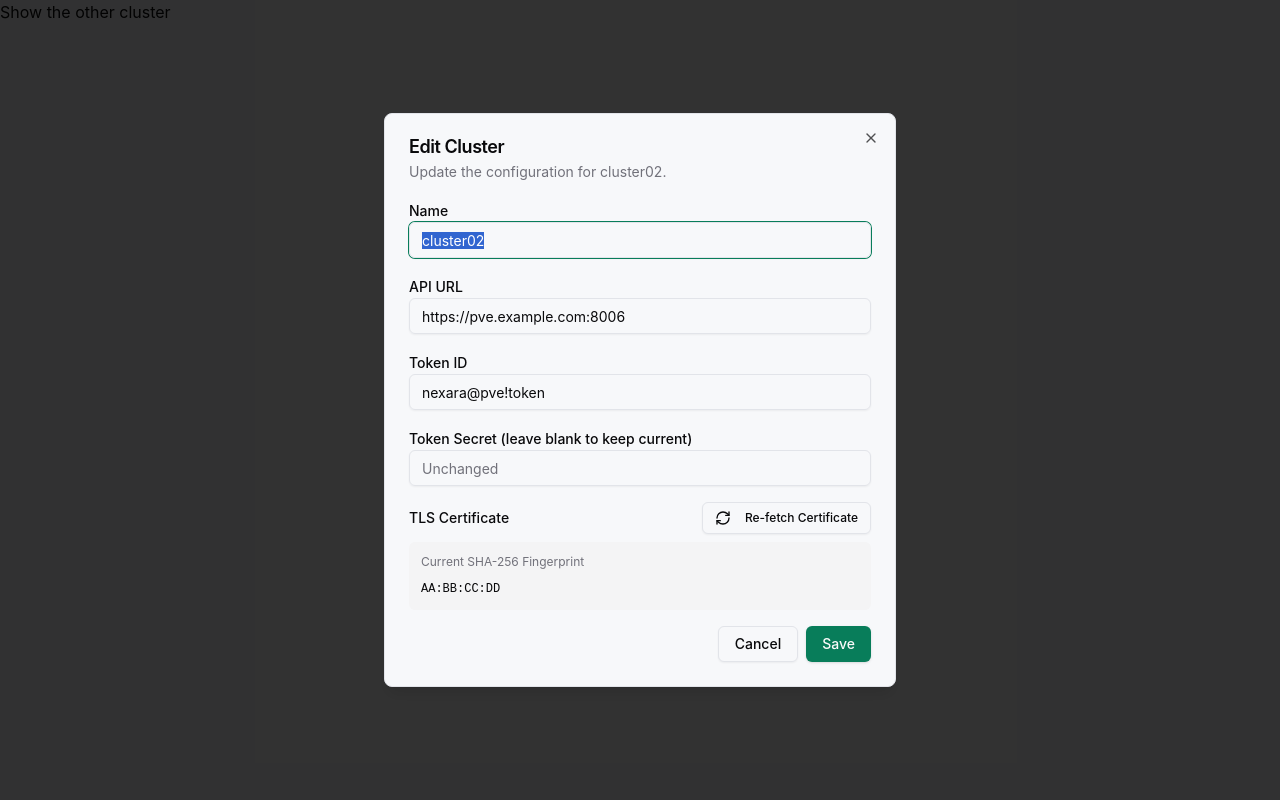
Scenario: a cluster save that settles when the dialog was given another cluster › answers a refusal that asks for a prompt with the prompt, or with a toast naming the first cluster and no prompt
Type " renamed" into the field labelled "Name". click: coordinates (640, 240)
box: [409,222,871,258]
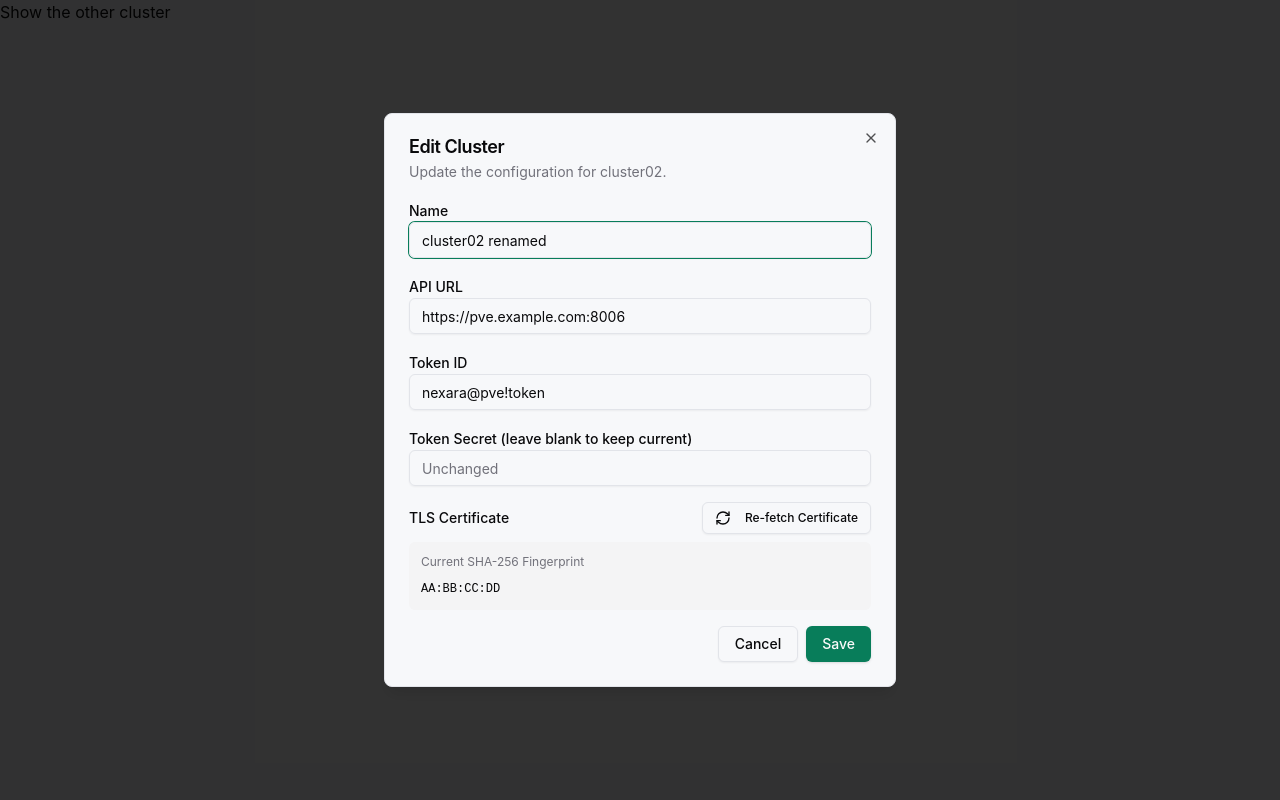
Click the button "Save". click: coordinates (839, 644)
box: [806,626,871,662]
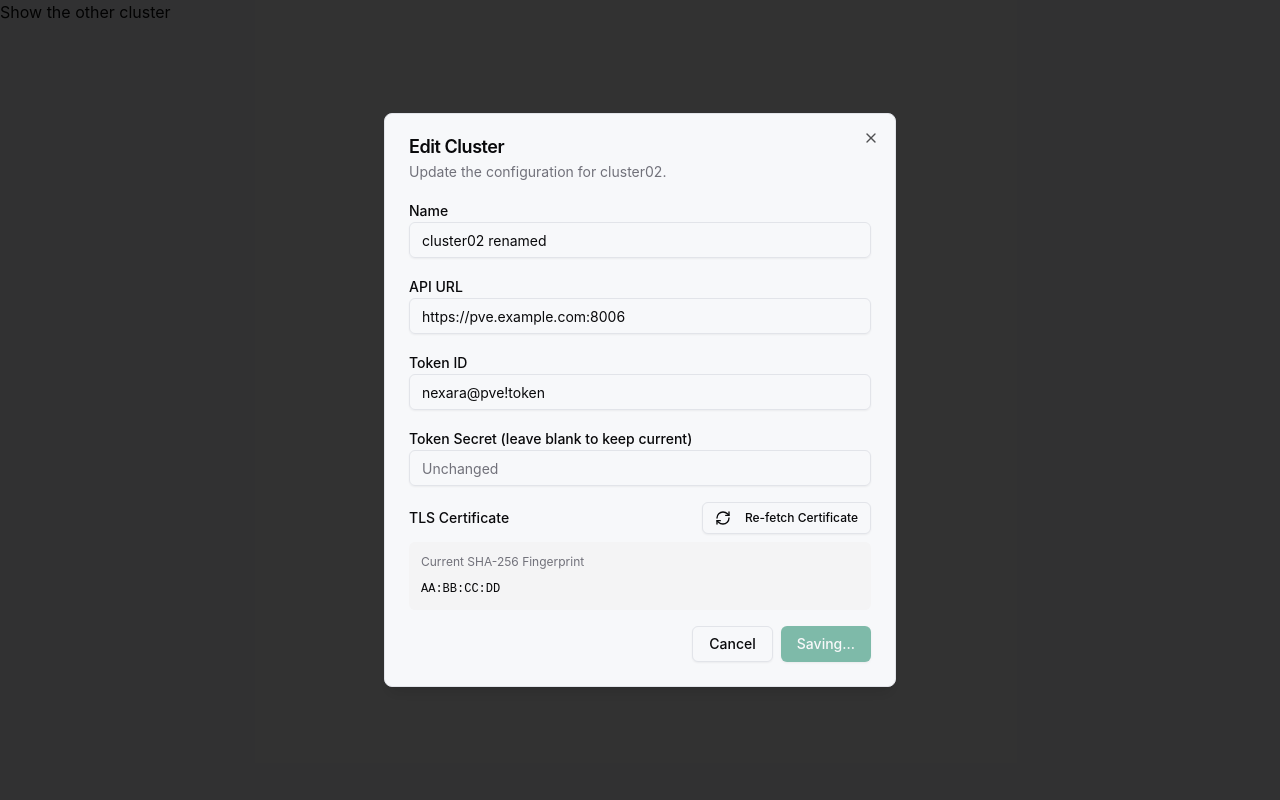
Result: the button "Saving..." is disabled at [781,626,871,662]
Press Tab
Press Tab
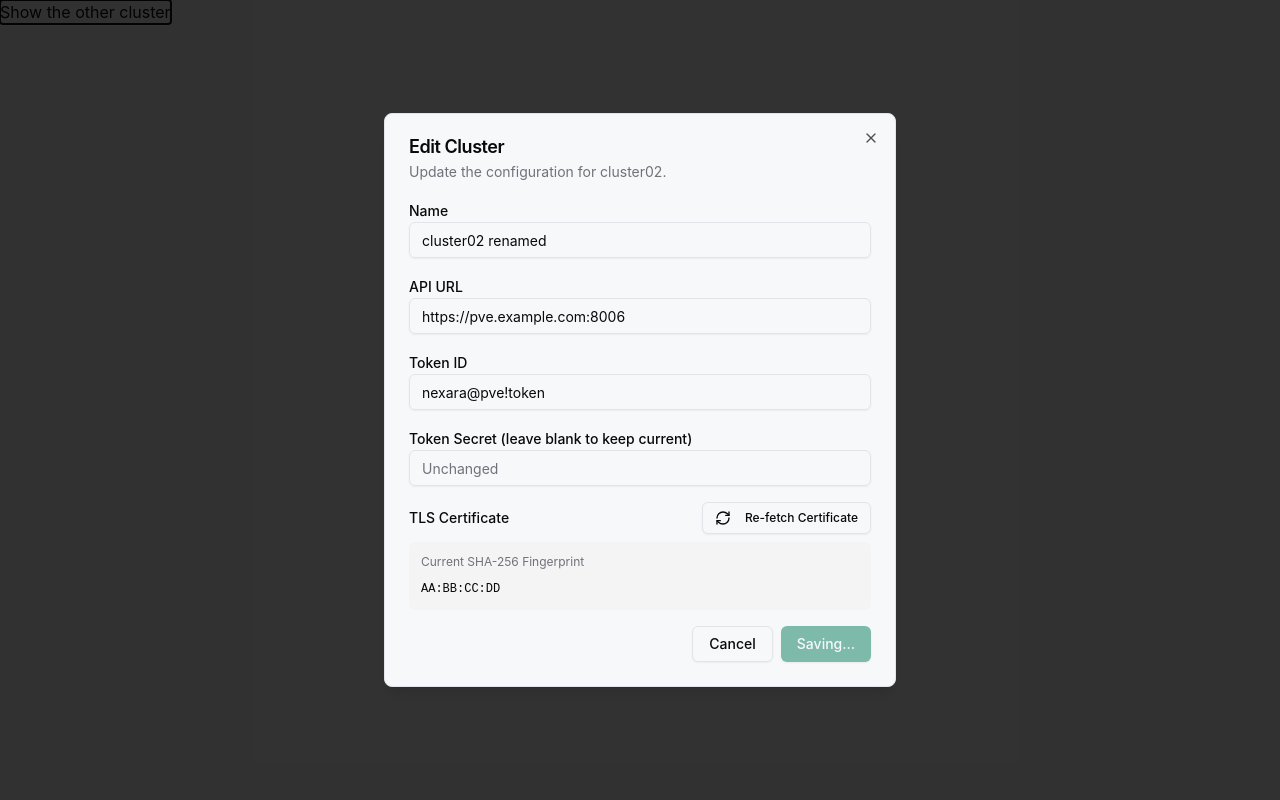
Press Enter
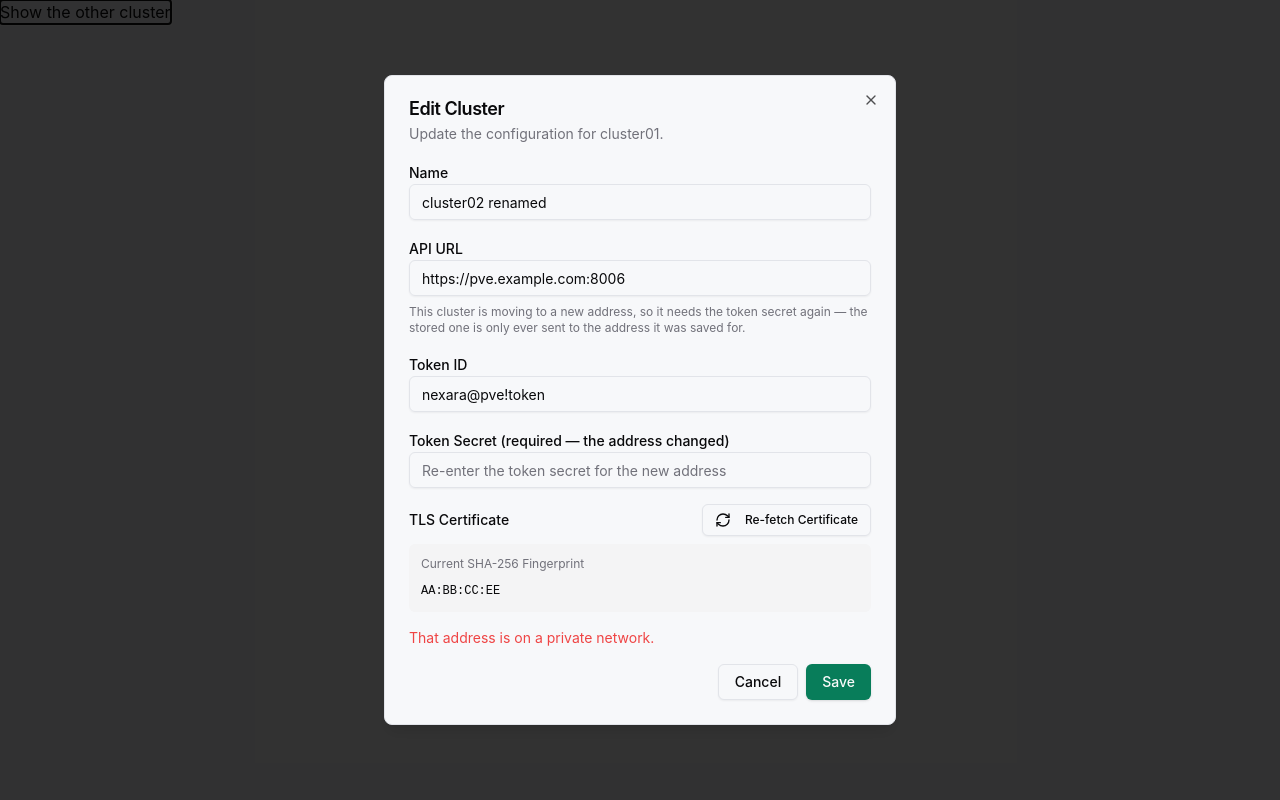
Result: the text "Update the configuration for cluster01." is shown at [409,125,664,142]
